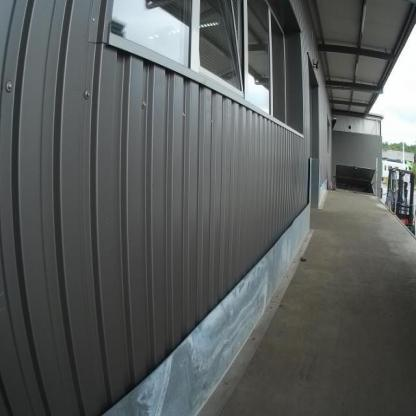forklift: (384, 165, 415, 231)
